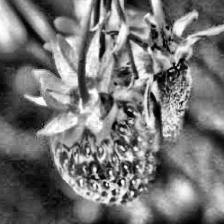Gray Mold: (141, 22, 193, 141)
